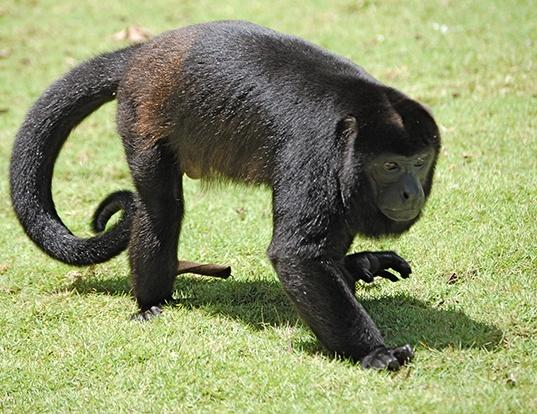monkey: (10, 26, 442, 373)
